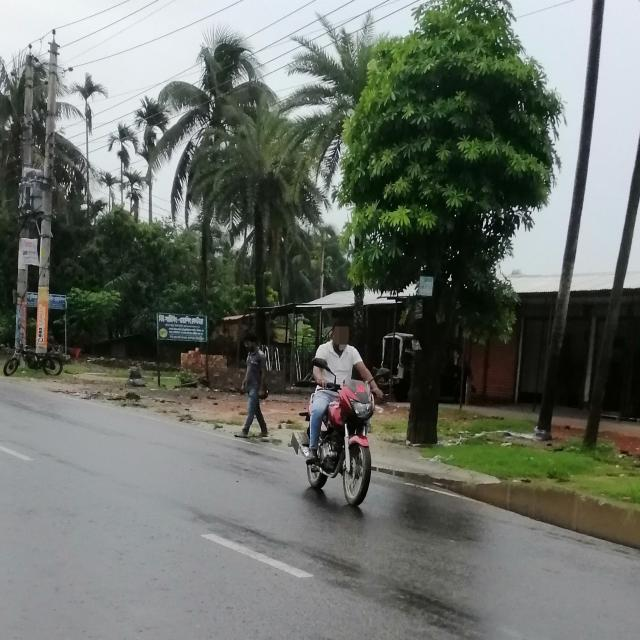Motorbike: (288, 357, 394, 511)
